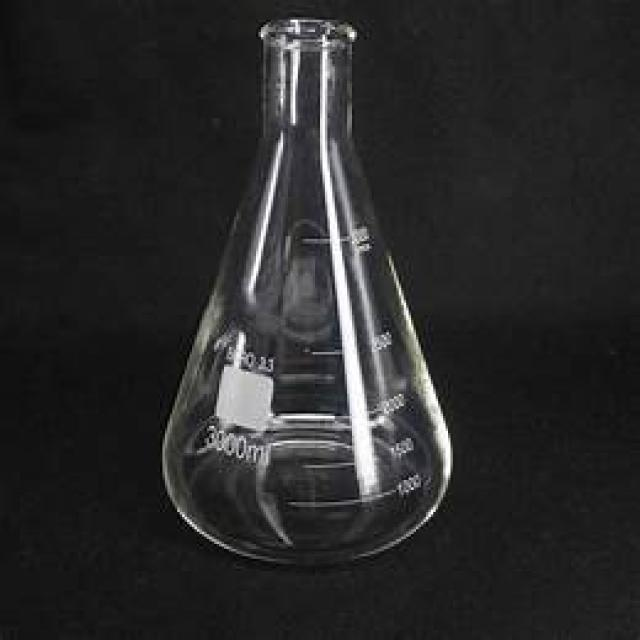Titrarion: (161, 30, 454, 559)
